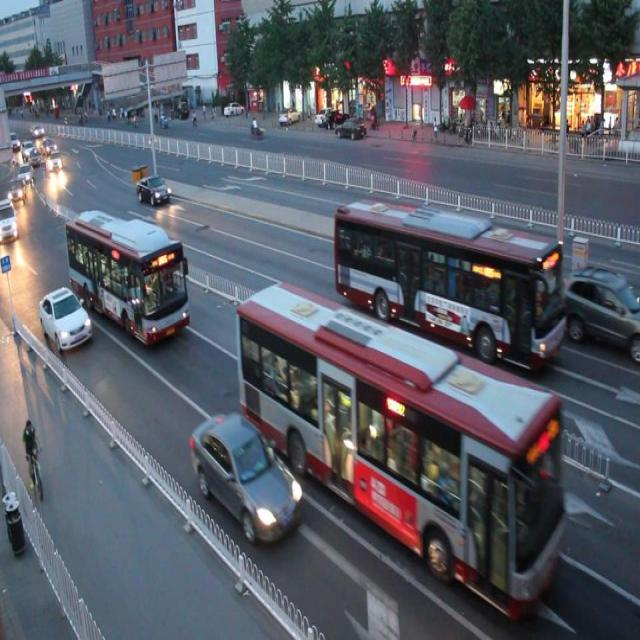car: (189, 410, 300, 539), (561, 268, 640, 352), (40, 283, 91, 353), (137, 173, 171, 204)
van: (236, 279, 565, 615), (335, 194, 564, 370), (66, 207, 190, 344)
